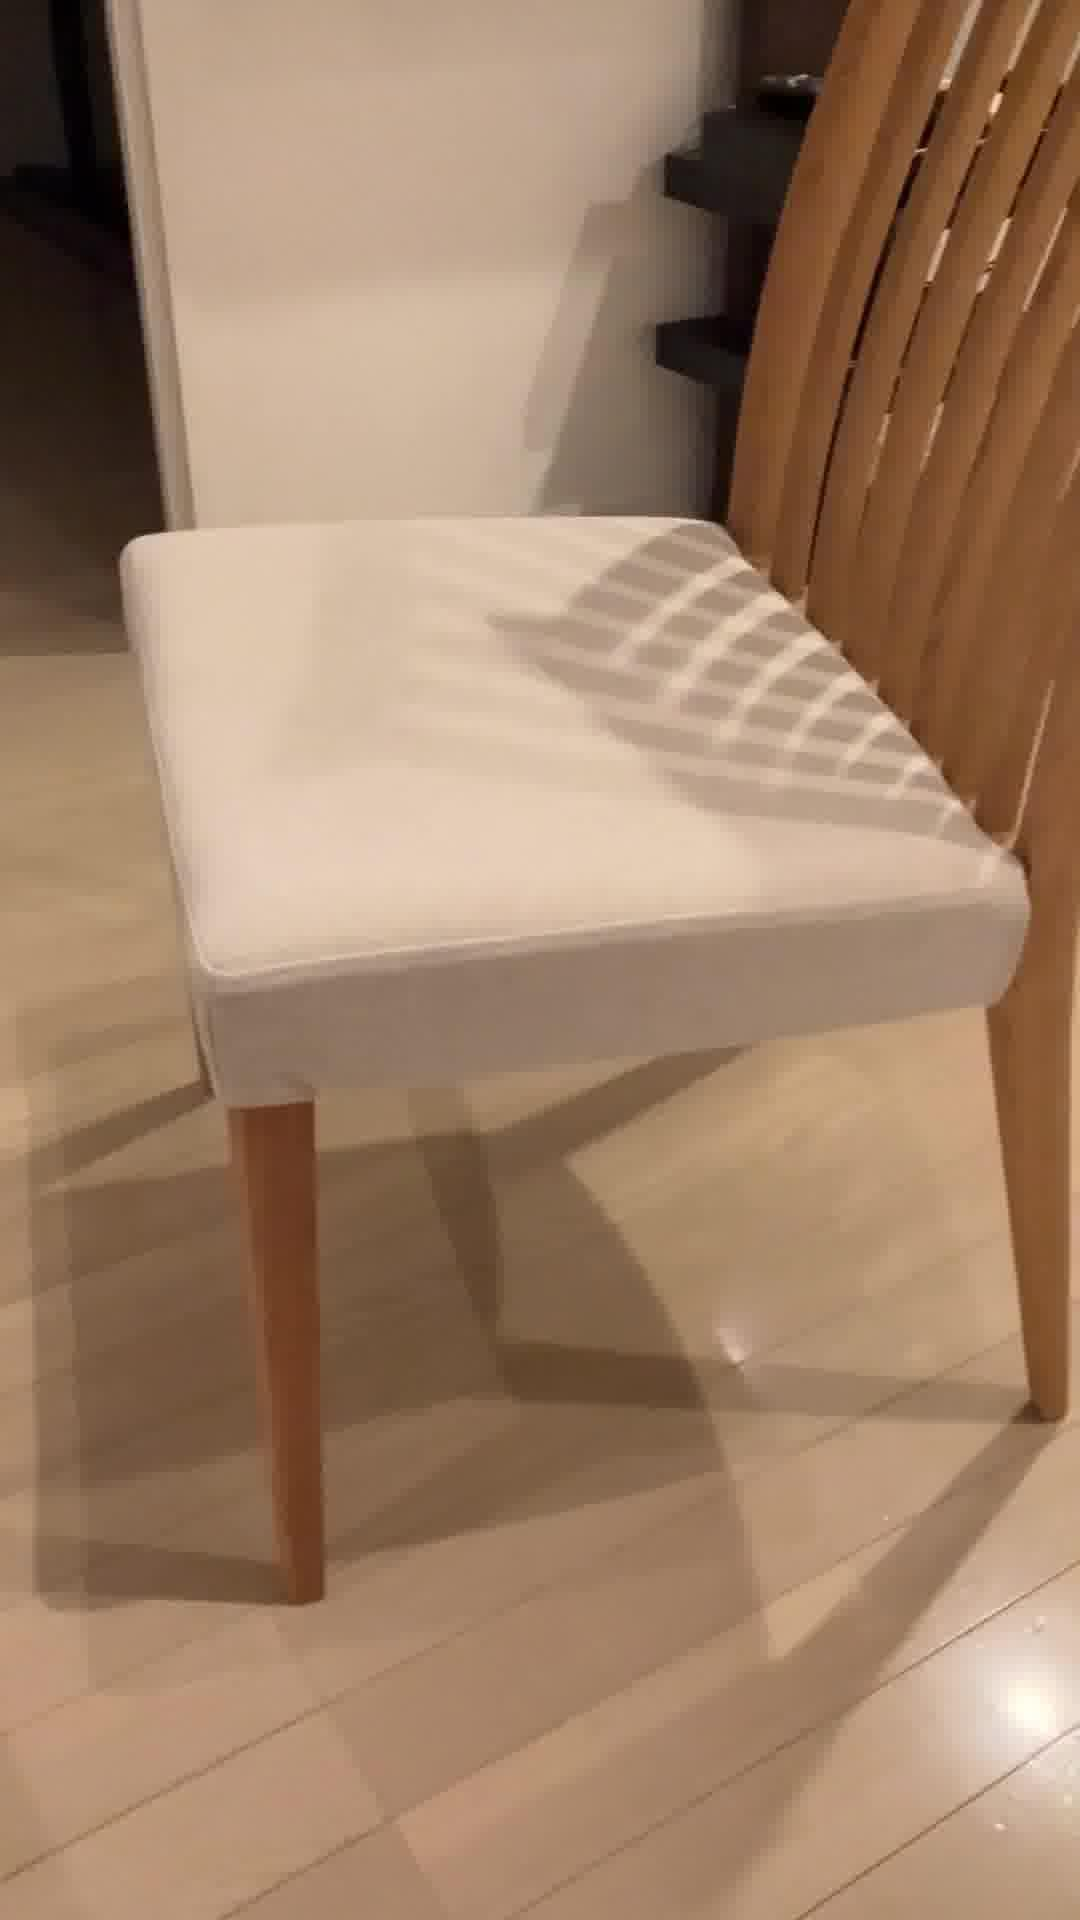takumikan-chair: (116, 0, 1080, 1610)
